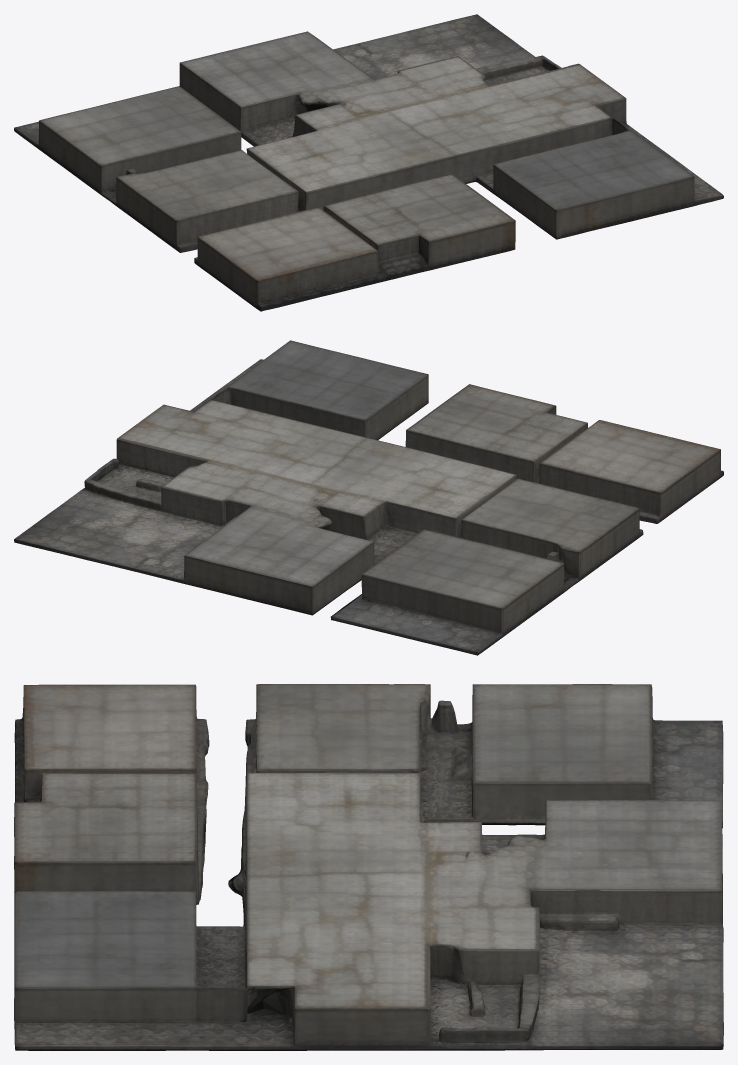
3 renders of one model, top to bottom at view 1: azimuth 30°, elevation 25°; view 2: azimuth 150°, elevation 25°; view 3: azimuth 270°, elevation 25°, orthographic. The views are drawn at different scales.
Visible parts, largest first — view 1: world; view 2: world; view 3: world.
Boxes of the visible parts, bbox=[...] form: world: bbox=[14, 14, 723, 311]; world: bbox=[14, 340, 723, 655]; world: bbox=[14, 684, 723, 1050].
Size of the model in its own units: 1 by 0.0682 by 0.9235.
Materials: 1 (1 with a texture image).
